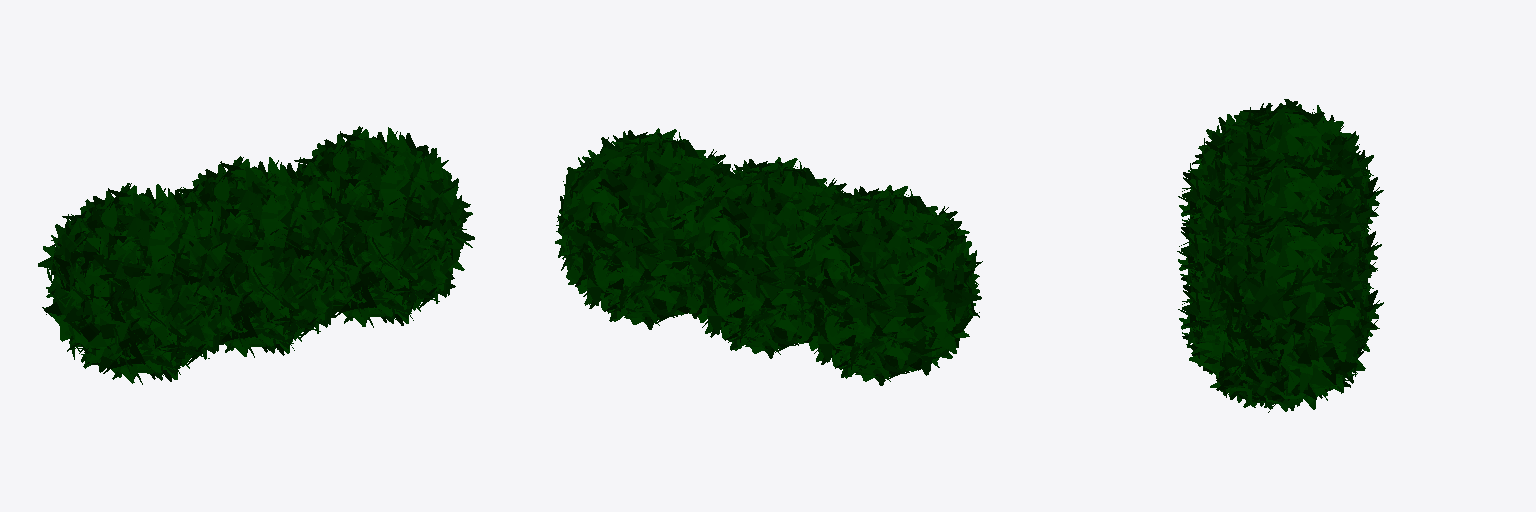
Rendered from arbusto.obj.
The picture shows the model from 3 angles: view 1: azimuth 30°, elevation 25°; view 2: azimuth 150°, elevation 25°; view 3: azimuth 270°, elevation 25°; orthographic projection.
Visible parts, largest first — view 1: Плоскость.002; view 2: Плоскость.002; view 3: Плоскость.002.
Part boxes in pixels (x1,y1,x2,y2): Плоскость.002: (38, 126, 474, 384); Плоскость.002: (555, 128, 982, 385); Плоскость.002: (1177, 99, 1383, 412).
Size of the model in its own units: 5.78 by 2.53 by 2.56.